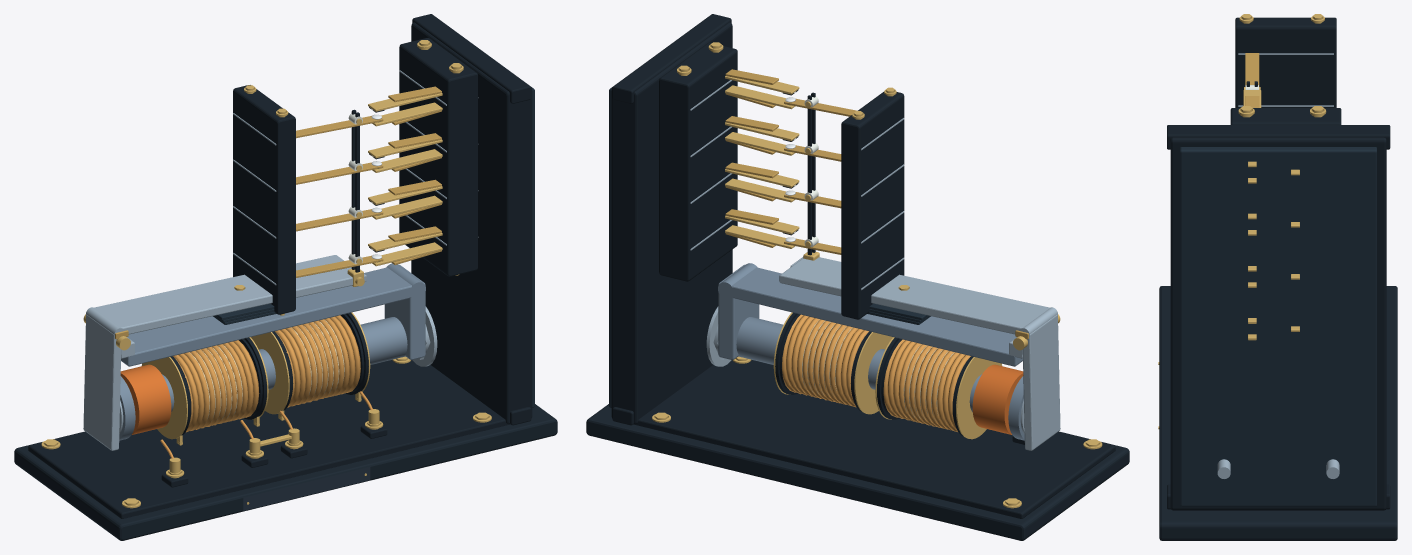
File: JZXC-H62-dropped.glb
The picture shows the model from 3 angles, left to right: view 1: azimuth 30°, elevation 25°; view 2: azimuth 150°, elevation 25°; view 3: azimuth 270°, elevation 25°; orthographic projection. The views are drawn at different scales.
Visible parts, largest first — view 1: base (×6), contactBlock (×2), coil (×4), armature (×2), yoke (×2), copperSleeve, core, back (×3), pole; view 2: base (×5), contactBlock (×2), coil (×6), armature (×2), yoke (×2), copperSleeve, core, back (×2), pole; view 3: base (×4), contactBlock (×2), common.
Boxes of the visible parts, x1,y1,x2,y2 form: base (×6): (14,14,557,540); contactBlock (×2): (233,38,477,314); coil (×4): (141,315,360,439); armature (×2): (83,255,364,450); yoke (×2): (121,264,425,366); copperSleeve: (120,364,171,434); core: (162,317,407,411); back (×3): (372,102,442,266); pole: (119,376,135,440); base (×5): (586,14,1129,540); contactBlock (×2): (659,42,904,319); coil (×6): (782,314,1002,439); armature (×2): (779,257,1060,450); yoke (×2): (718,264,1022,366); copperSleeve: (972,364,1023,434); core: (736,317,981,411); back (×2): (725,132,795,248); pole: (1008,376,1024,440); base (×4): (1159,125,1397,540); contactBlock (×2): (1230,17,1341,124); common: (1245,53,1259,86).
Bounding box in the file's own units: 6.05 × 4.73 × 2.55.
